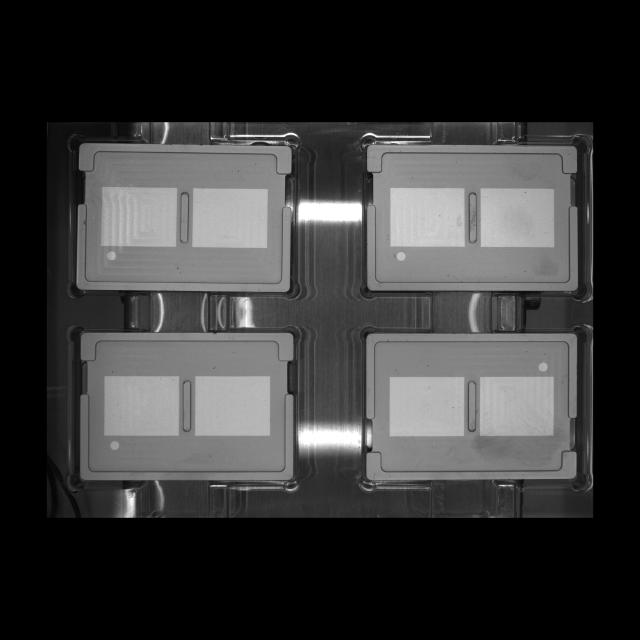product: (65, 131, 304, 302), (358, 131, 590, 300), (66, 324, 302, 490), (357, 324, 590, 492)
